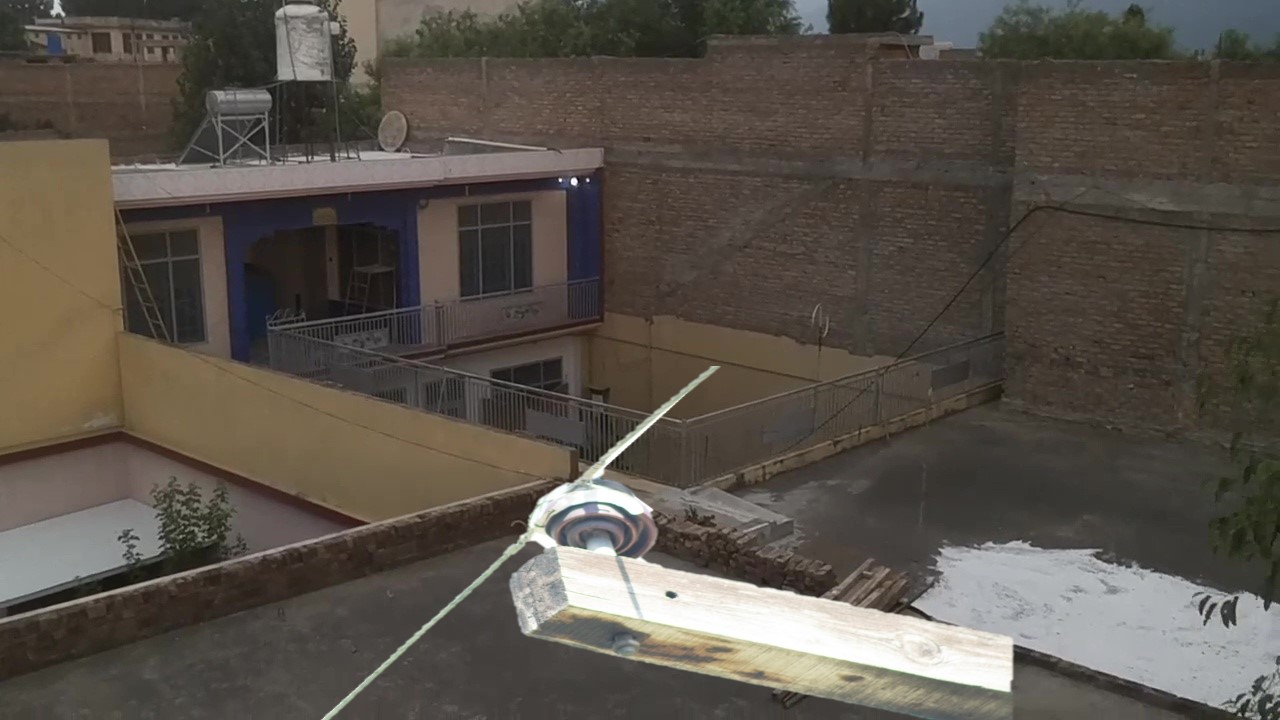defect_pin: (525, 475, 662, 567)
